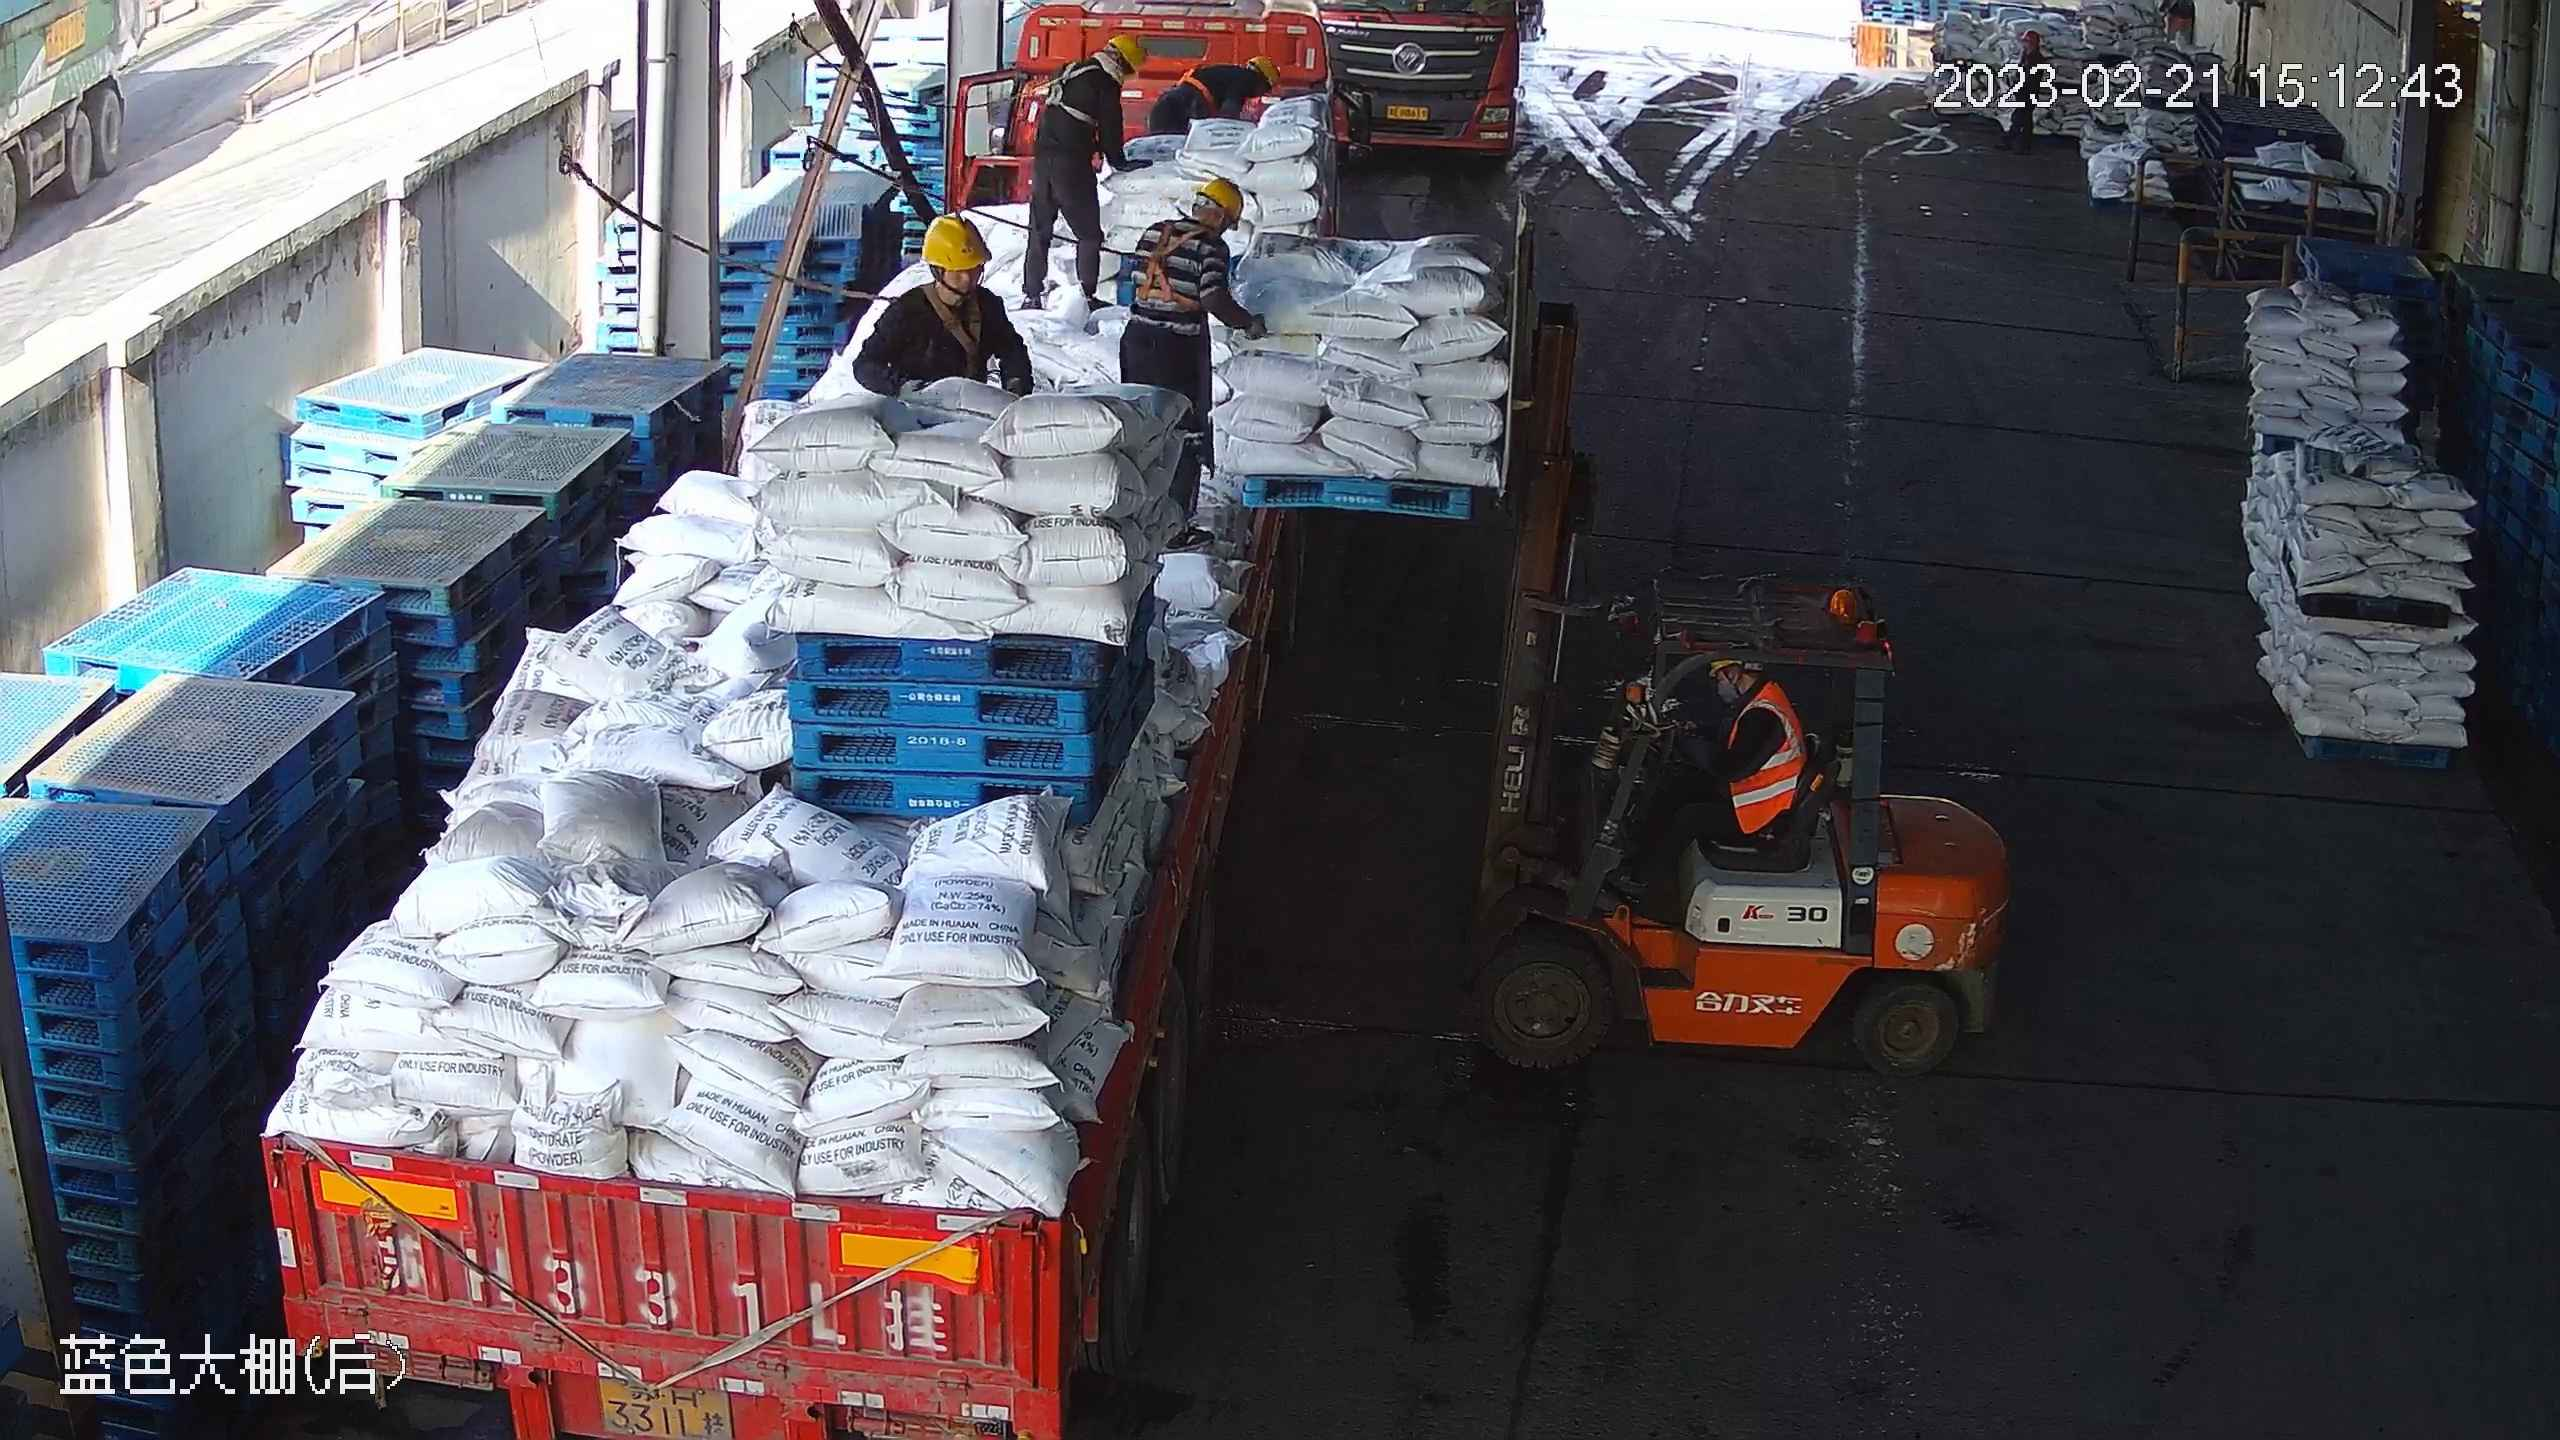belt: (1137, 219, 1207, 313), (919, 282, 981, 379), (1039, 61, 1101, 129), (1173, 67, 1217, 115)
head: (879, 214, 1007, 339), (1137, 175, 1244, 266), (1055, 35, 1143, 105), (1217, 56, 1281, 104)
helmet: (921, 213, 993, 271), (1195, 176, 1244, 231), (1106, 34, 1143, 72), (1249, 54, 1281, 85)
people: (1117, 175, 1268, 553), (1612, 659, 1808, 898), (1020, 34, 1154, 309), (1145, 55, 1281, 134)
truck: (256, 1, 1374, 1440), (1315, 1, 1521, 153)
